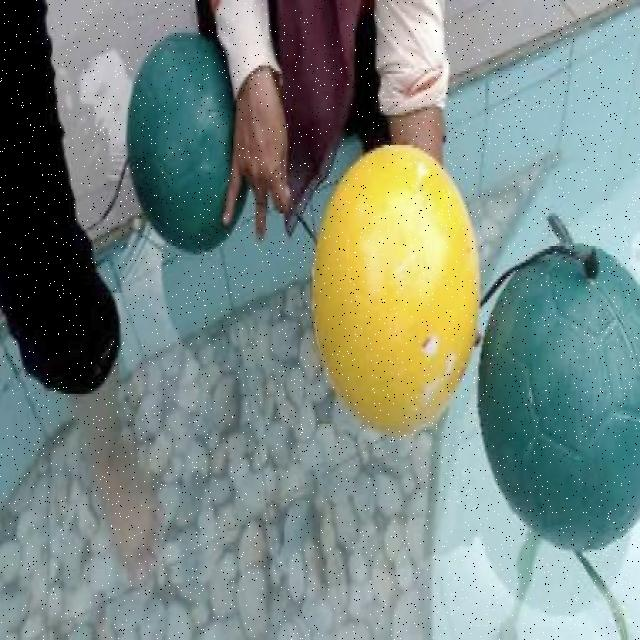buoy: (473, 239, 640, 542), (312, 141, 479, 434), (126, 30, 247, 254)
